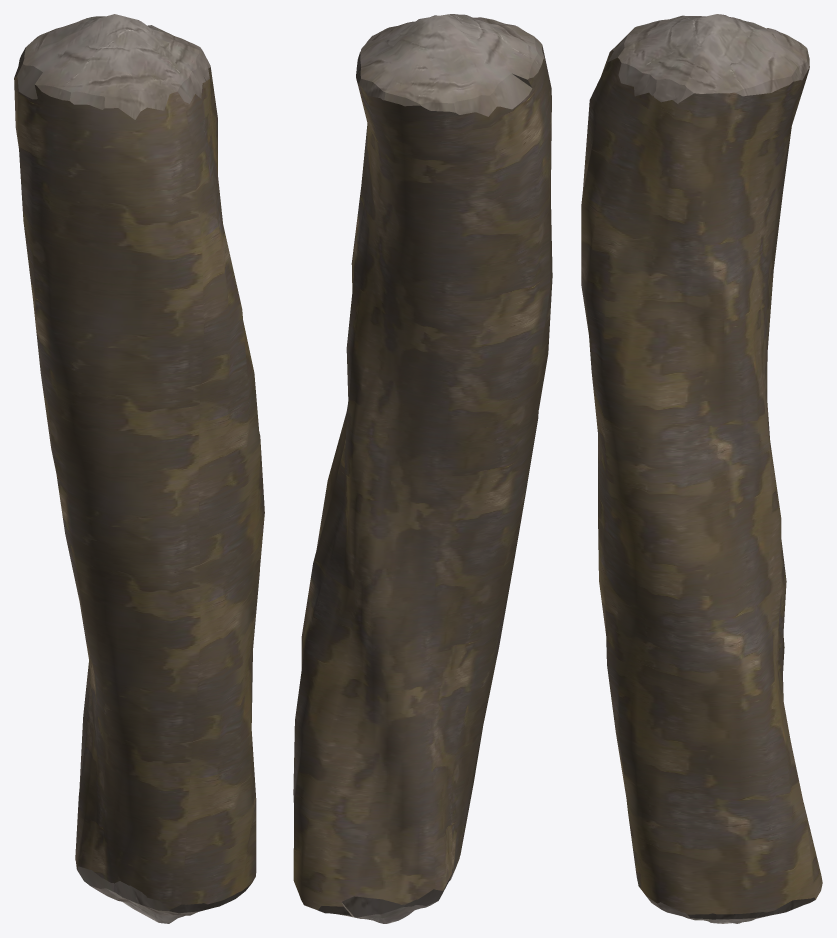
3 renders of one model, left to right at view 1: azimuth 30°, elevation 25°; view 2: azimuth 150°, elevation 25°; view 3: azimuth 270°, elevation 25°, orthographic. The views are drawn at different scales.
Visible parts, largest first — view 1: SM_Yew_03_half_mid_LOD0; view 2: SM_Yew_03_half_mid_LOD0; view 3: SM_Yew_03_half_mid_LOD0.
Boxes of the visible parts, x1=… form: SM_Yew_03_half_mid_LOD0: x1=14, y1=14, x2=264, y2=923; SM_Yew_03_half_mid_LOD0: x1=293, y1=14, x2=552, y2=923; SM_Yew_03_half_mid_LOD0: x1=581, y1=14, x2=822, y2=923.
Size of the model in its own units: 0.8923 by 3.57 by 0.8792.
1 material, 1 textured.
